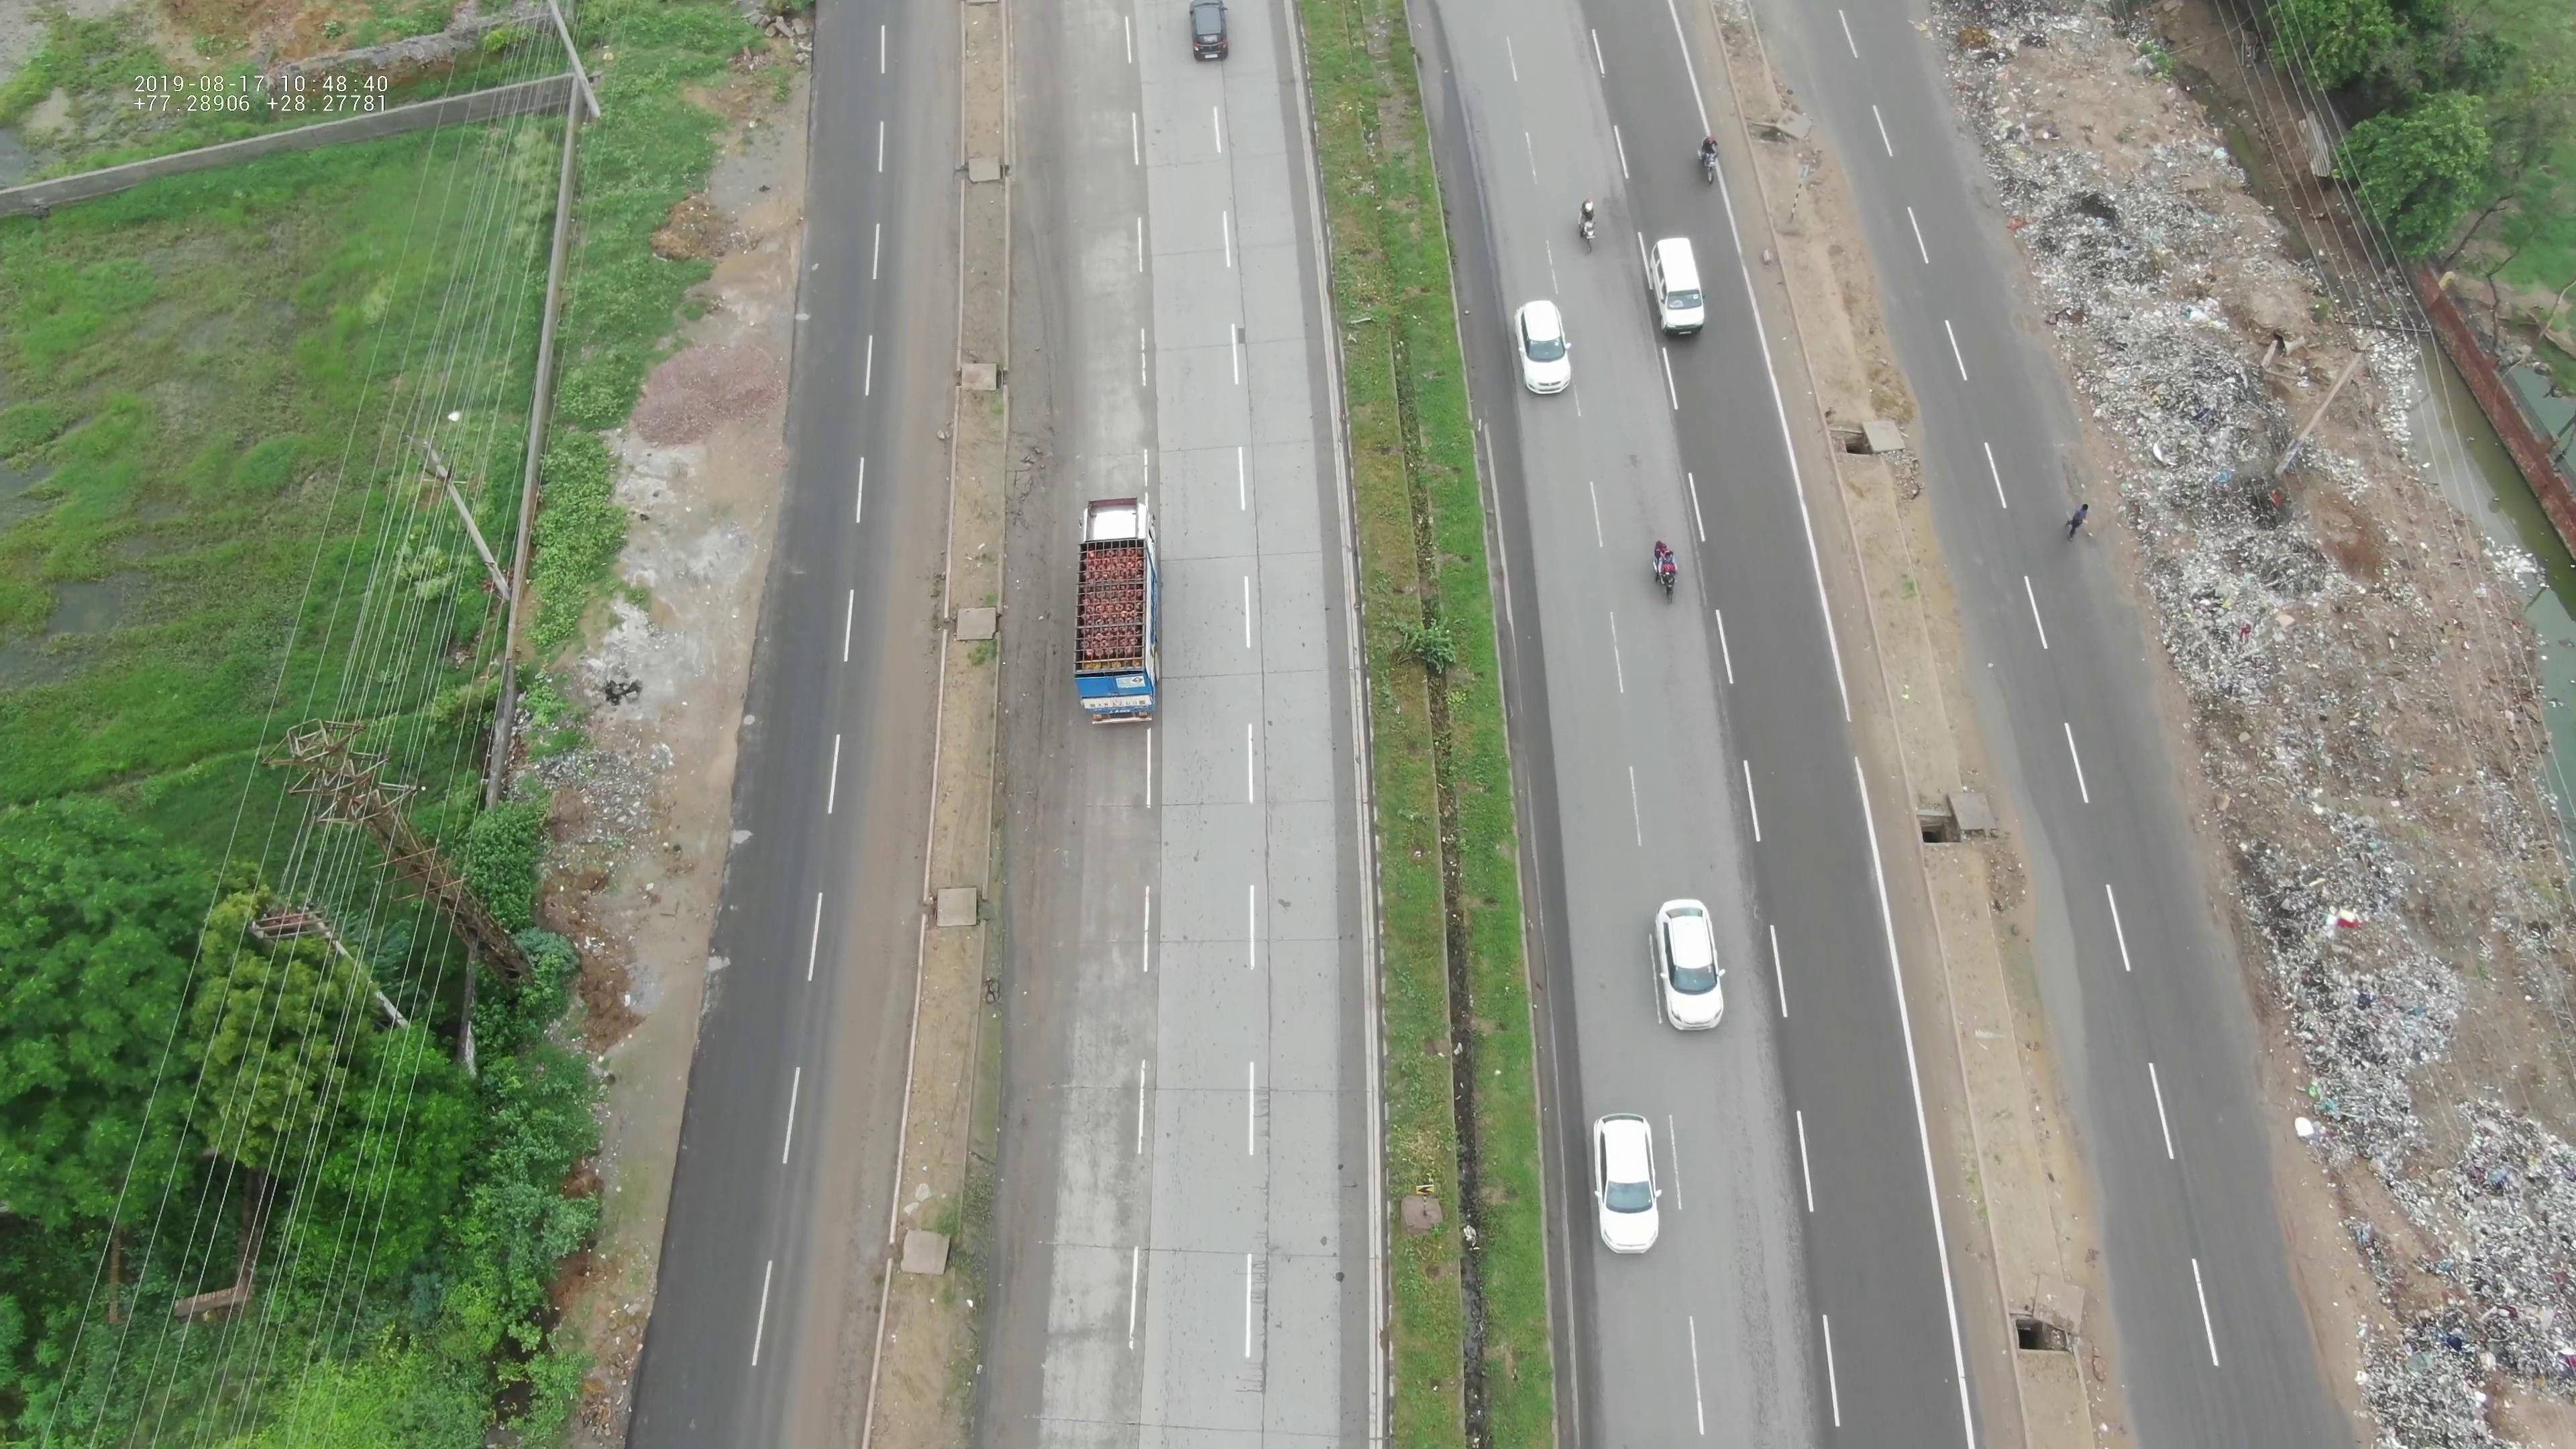Road_side_garbage: (2222, 824, 2503, 1095), (2036, 145, 2282, 446), (2348, 1127, 2571, 1438), (2137, 494, 2385, 706)
